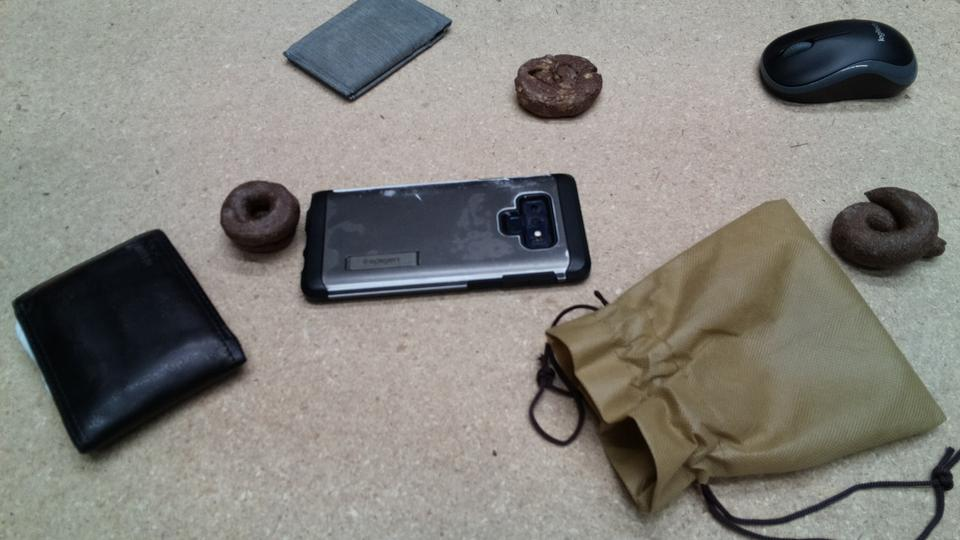poop: (828, 185, 949, 274), (511, 50, 605, 123), (218, 177, 302, 257)
